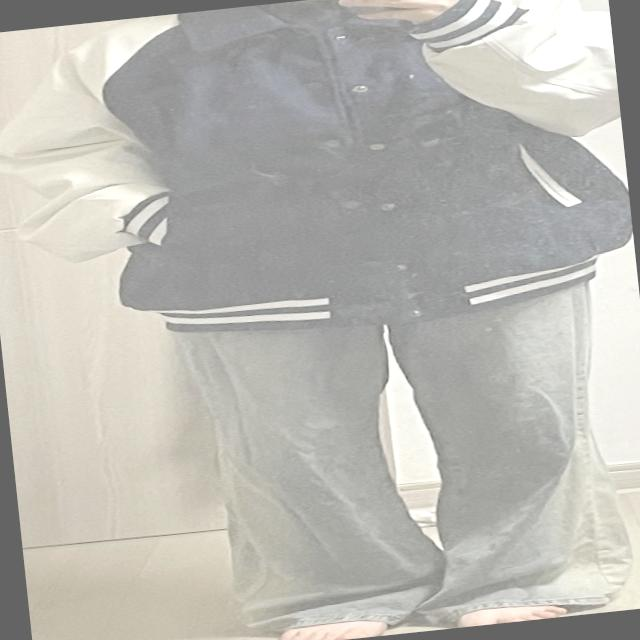denimpants: (168, 275, 631, 640)
jacket: (0, 0, 639, 365)
